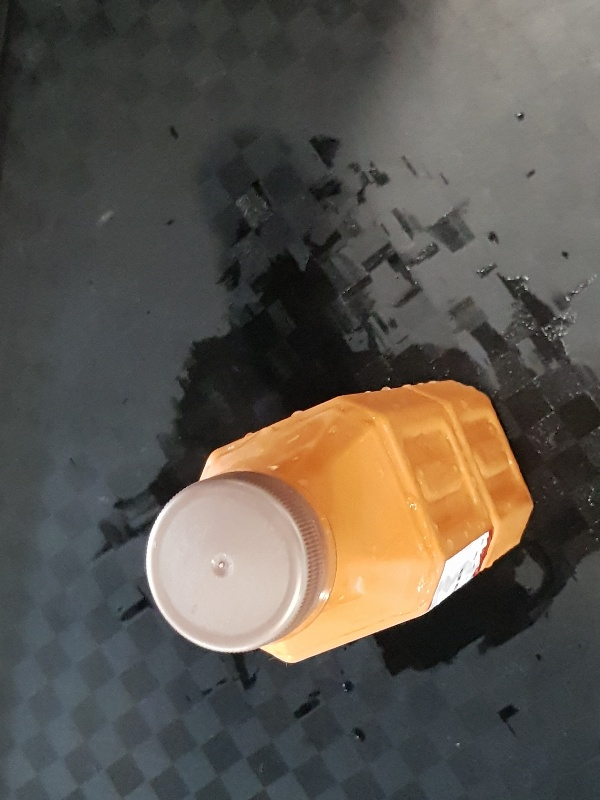Thai Milk Tea: (145, 379, 533, 663)
